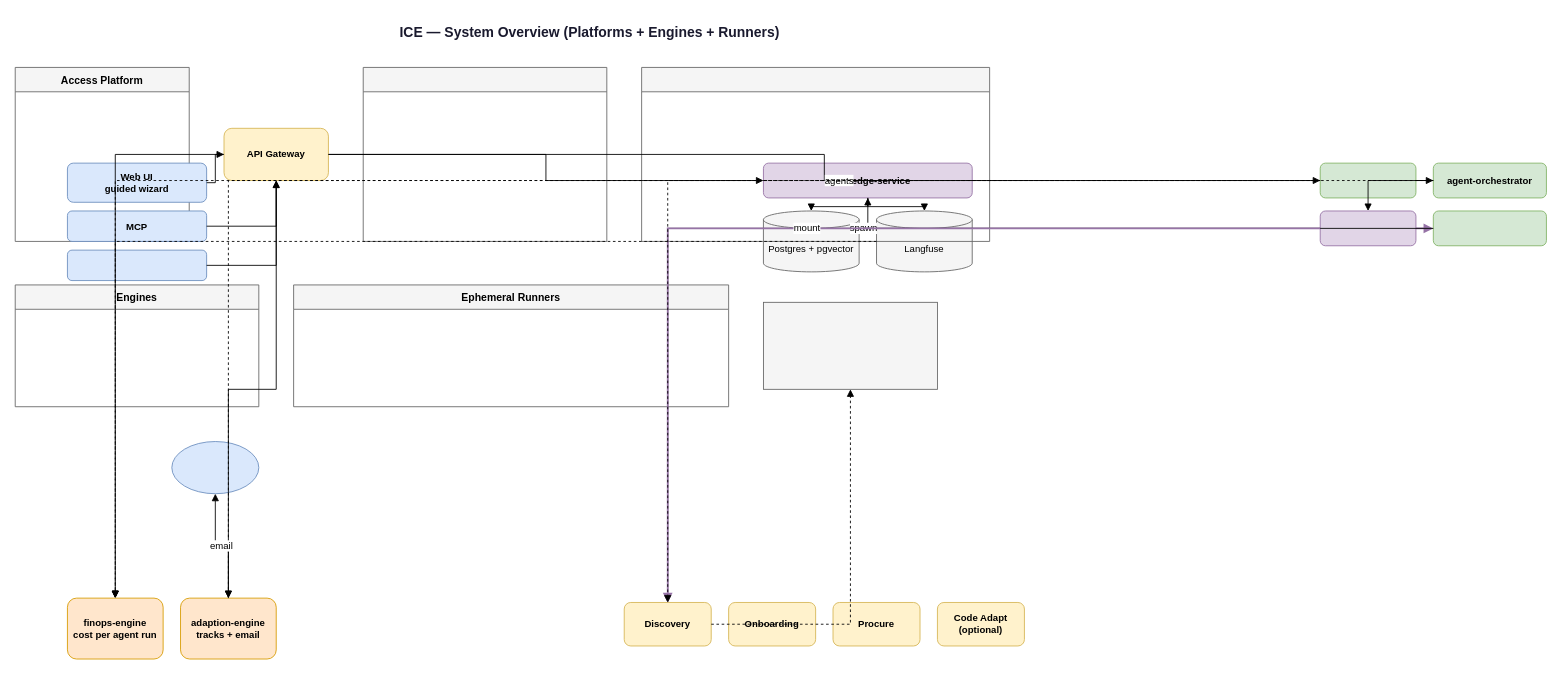
Some shapes in this 1562 by 674 pixel diagram are drawn without their labels. Here are the shapes that lost their labels. From the top down, the centre of each, then its label:
At point 484,154: "Skill & Knowledge Platform".
At point 815,154: "Execution Platform".
At point 1367,180: "job-service".
At point 1367,228: "skill-loader".
At point 1489,228: "sandbox-provisioner".
At point 137,265: "CLI".
At point 850,345: "External CMDB / SSH / Cloud / UK8S".
At point 215,467: "Application owners".
